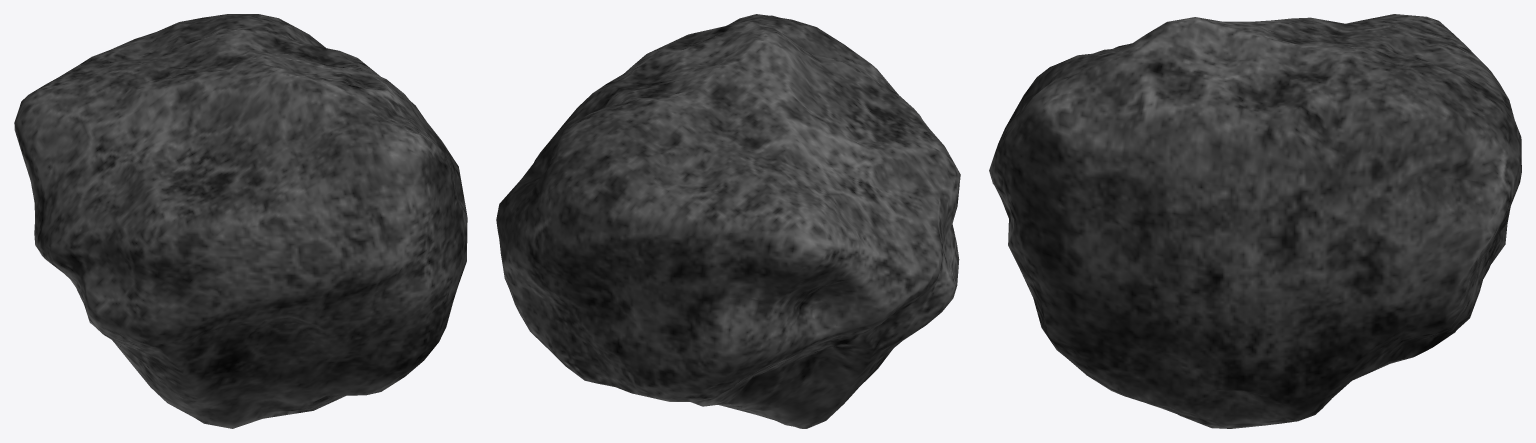
3 renders of one model, left to right at view 1: azimuth 30°, elevation 25°; view 2: azimuth 150°, elevation 25°; view 3: azimuth 270°, elevation 25°, orthographic. The views are drawn at different scales.
Visible parts, largest first — view 1: Asteroid_no_6_Material #3_0; view 2: Asteroid_no_6_Material #3_0; view 3: Asteroid_no_6_Material #3_0.
Boxes of the visible parts, bbox=[...] form: Asteroid_no_6_Material #3_0: bbox=[14, 14, 467, 428]; Asteroid_no_6_Material #3_0: bbox=[496, 14, 960, 428]; Asteroid_no_6_Material #3_0: bbox=[989, 14, 1521, 428].
Size of the model in its own units: 7.21 by 6.38 by 7.98.
Materials: 1 (1 with a texture image).
